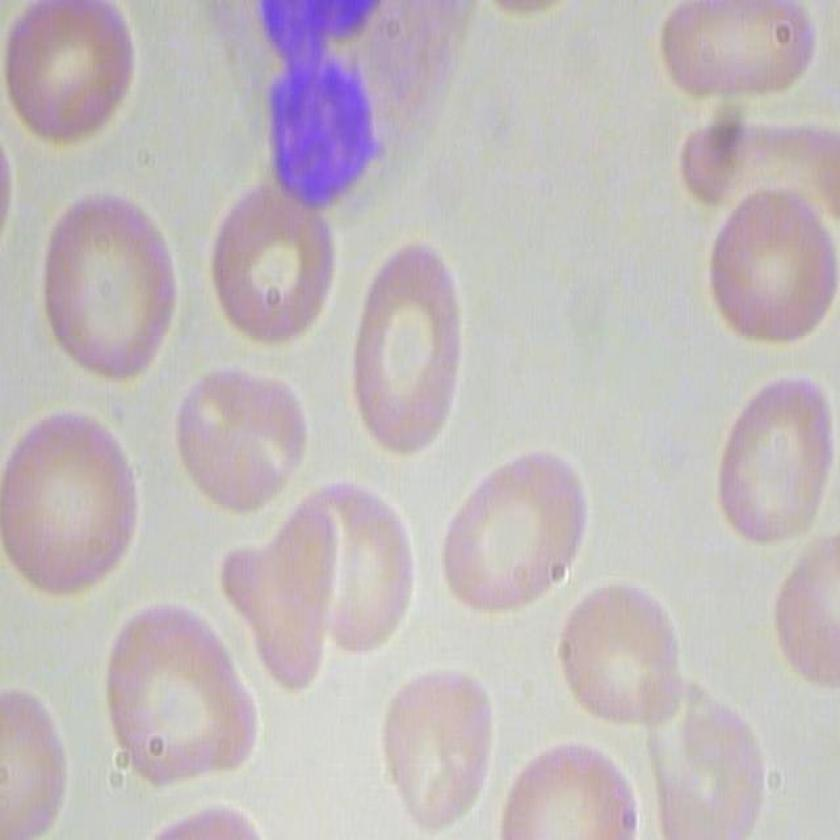neutrophil: (204, 1, 483, 225)
